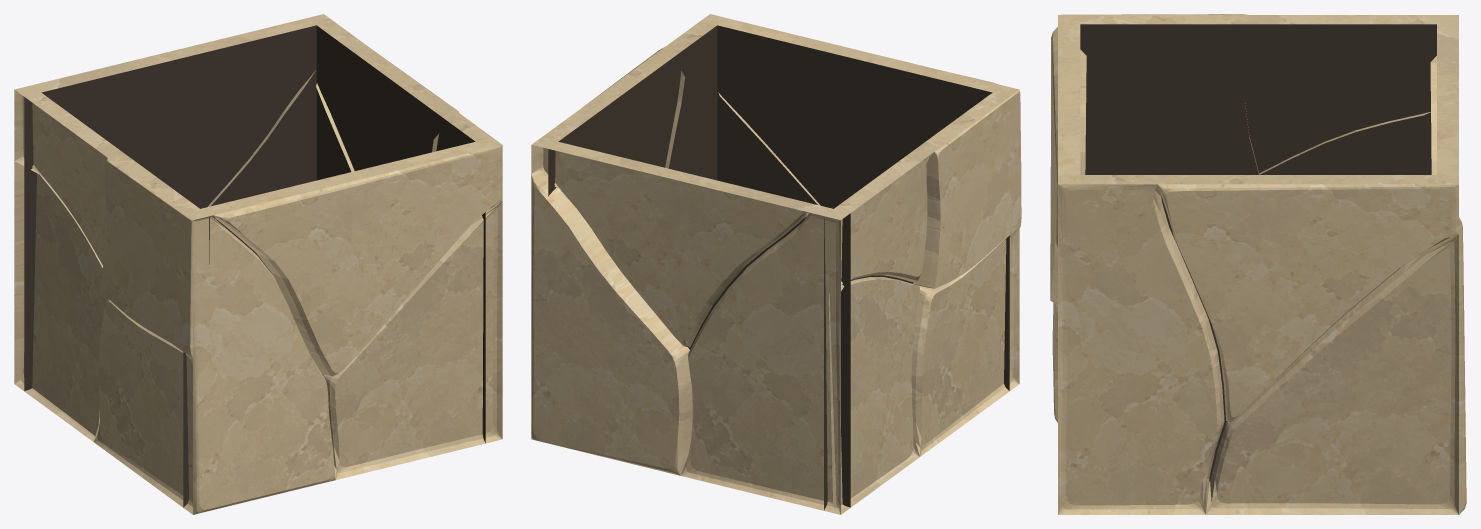
The model's file is ground_island_05.glb.
3 renders of one model, left to right at view 1: azimuth 30°, elevation 25°; view 2: azimuth 150°, elevation 25°; view 3: azimuth 270°, elevation 25°, orthographic. The views are drawn at different scales.
Parts seen in each view (by area): view 1: GroundIsland05_Body; view 2: GroundIsland05_Body; view 3: GroundIsland05_Body.
Part boxes in pixels (bbox=[...]): GroundIsland05_Body: bbox=[14, 14, 502, 514]; GroundIsland05_Body: bbox=[531, 14, 1021, 514]; GroundIsland05_Body: bbox=[1050, 14, 1466, 514].
Bounding box in the file's own units: 1.04 × 0.91 × 1.04.
15 materials, 14 textured.
